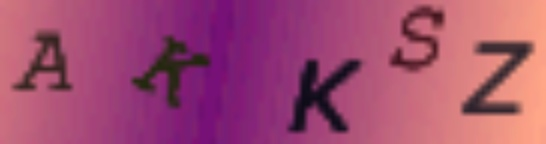A: (7, 24, 76, 94)
K: (133, 34, 215, 114), (283, 56, 362, 136)
S: (386, 2, 450, 75)
Z: (457, 36, 542, 117)
